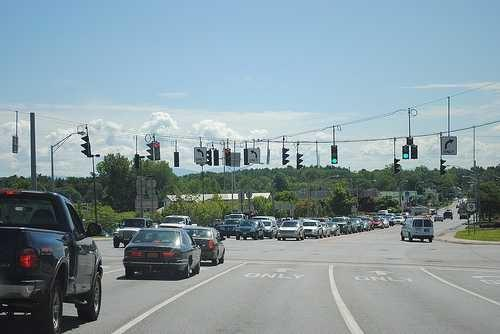green: (330, 144, 339, 163), (402, 145, 411, 162)
